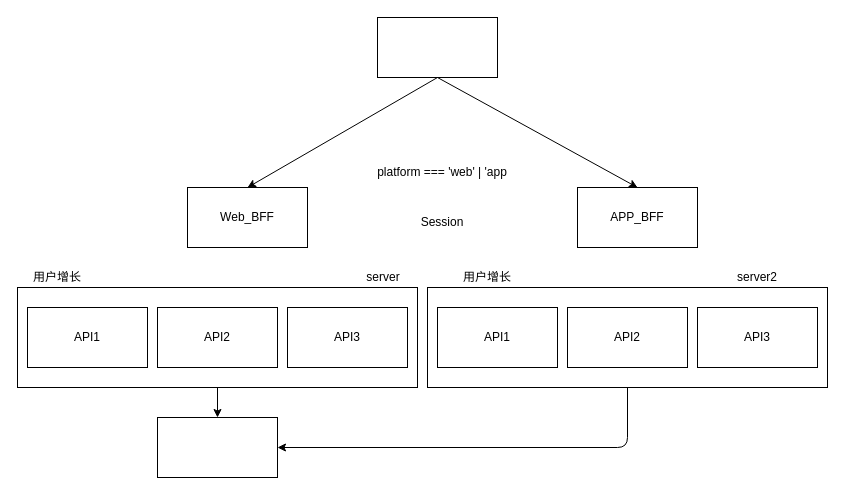
The diagram is 845 pixels wide and 495 high, and some of its shapes have lost their labels. Each missing label, with the box of its shape:
db: (156, 416, 278, 478)
大前端: (376, 16, 498, 78)
